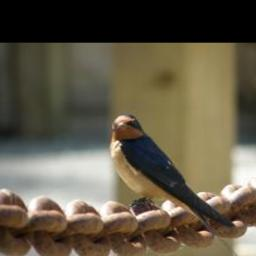Swallow: (107, 113, 253, 256)
